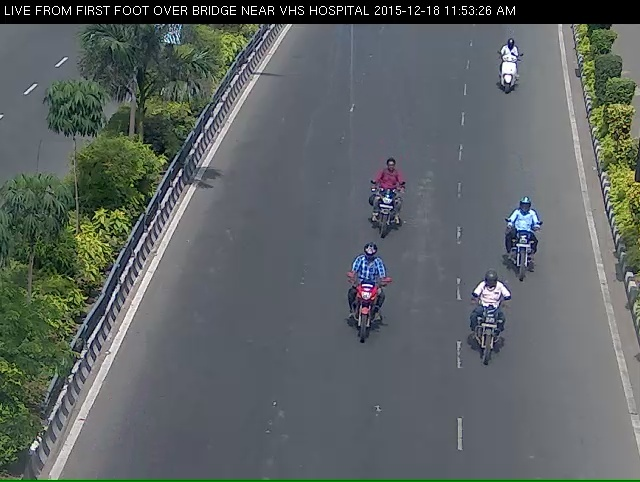Person: (338, 258, 394, 369), (475, 293, 515, 394), (504, 216, 555, 294), (365, 171, 410, 251), (492, 41, 529, 103)
